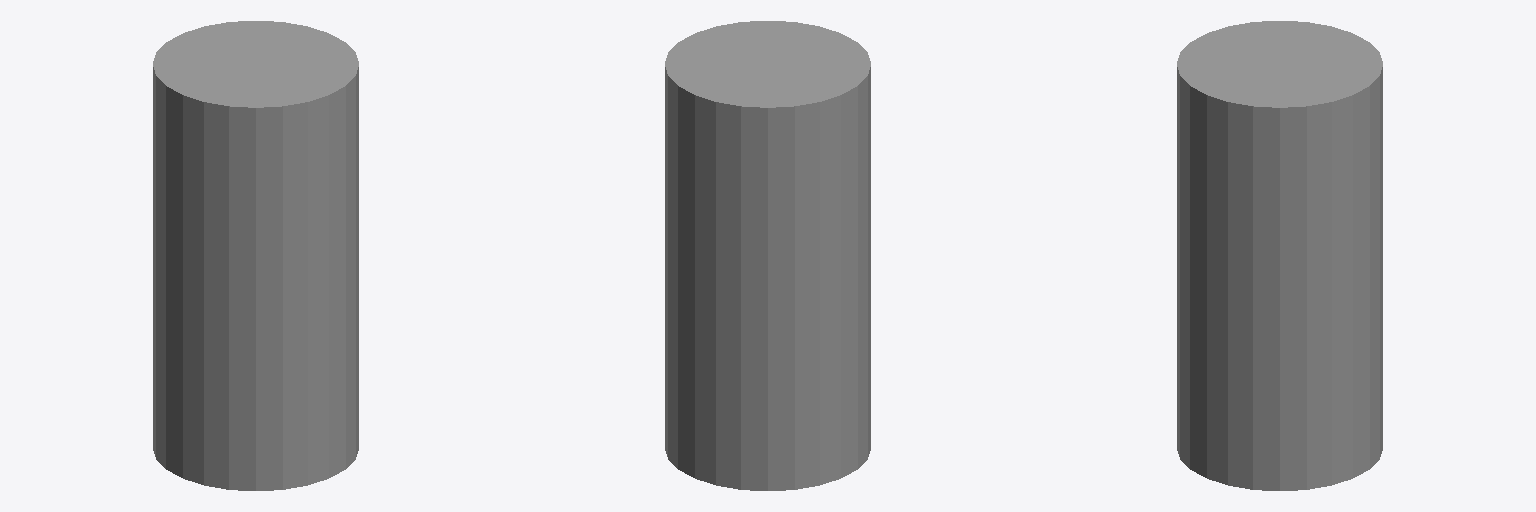
Rendered from CapWorldTowerGround000.obj.obj.
3 renders of one model, left to right at view 1: azimuth 30°, elevation 25°; view 2: azimuth 150°, elevation 25°; view 3: azimuth 270°, elevation 25°, orthographic.
Bounding box in the file's own units: 32000 × 65450 × 32000.